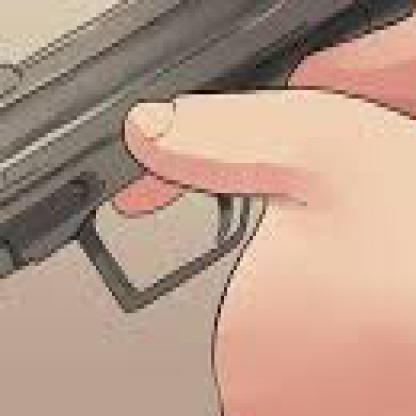gun: (0, 0, 413, 403)
